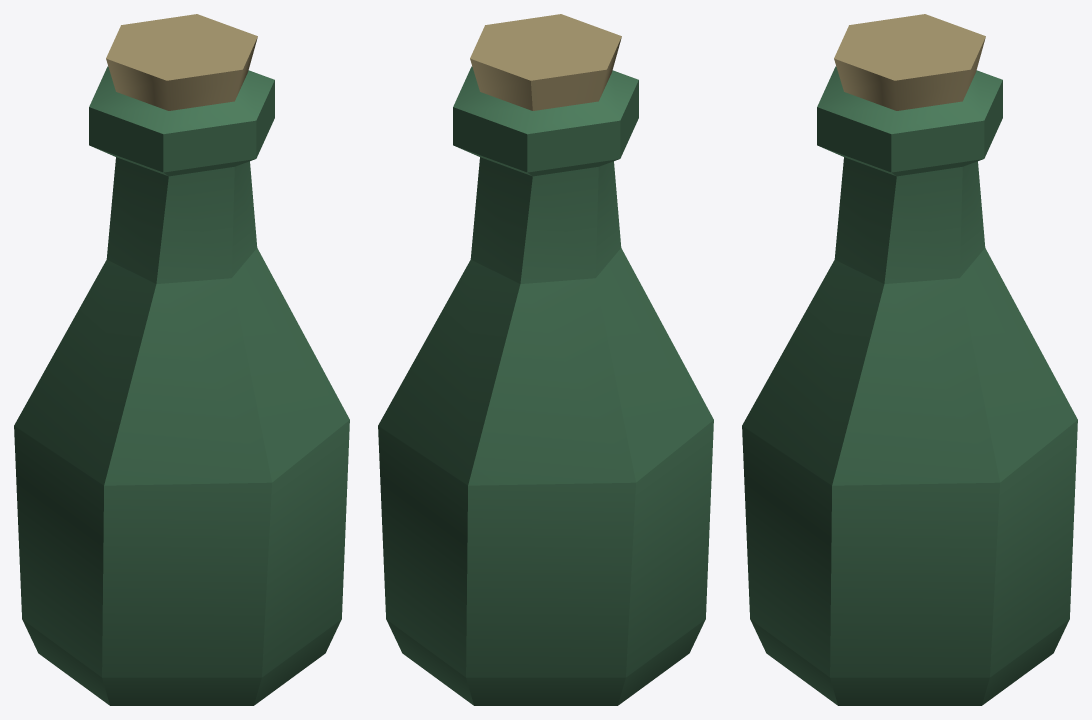
Rendered from bottle.fbx.
3 renders of one model, left to right at view 1: azimuth 30°, elevation 25°; view 2: azimuth 150°, elevation 25°; view 3: azimuth 270°, elevation 25°, orthographic.
Parts seen in each view (by area): view 1: bottle_1.004; view 2: bottle_1.004; view 3: bottle_1.004.
Boxes of the visible parts, left/top/right/bottom form: bottle_1.004: left=14, top=14, right=349, bottom=705; bottle_1.004: left=378, top=14, right=713, bottom=705; bottle_1.004: left=742, top=14, right=1077, bottom=705.
Size of the model in its own units: 12.4 by 27.82 by 13.98.
